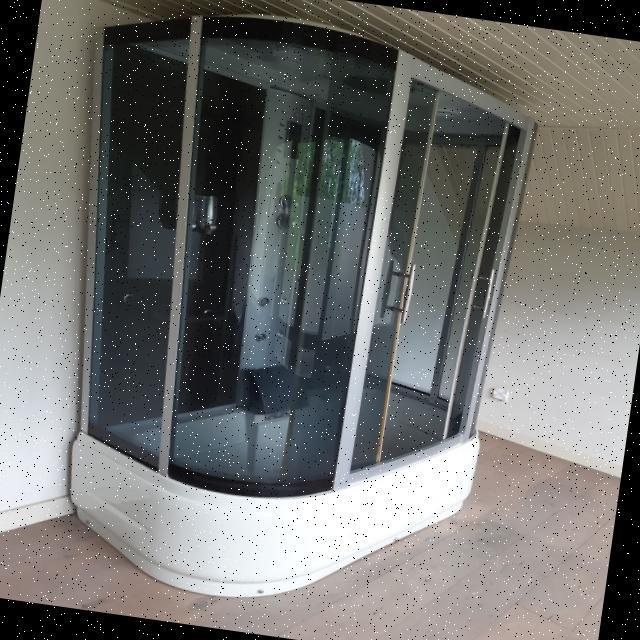douche: (18, 0, 547, 631)
